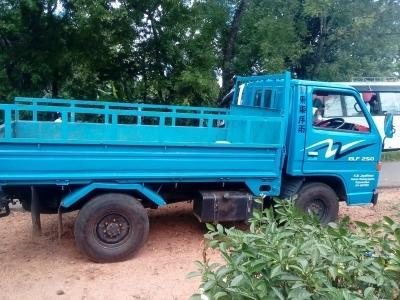truck: (1, 70, 394, 264)
